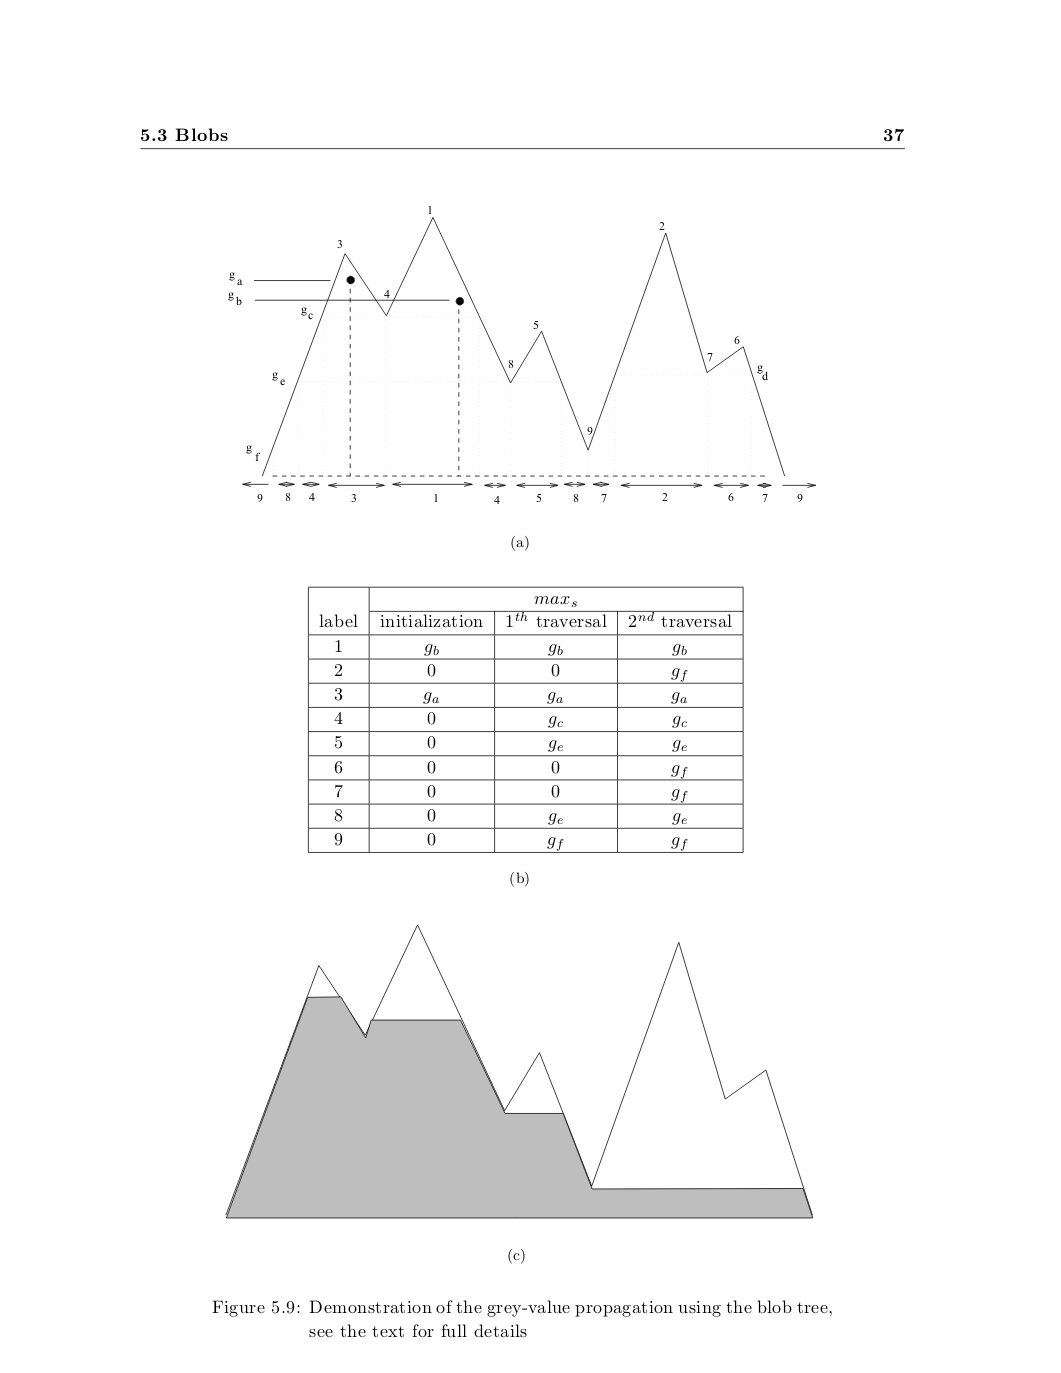Table: (306, 585, 743, 853)
figure: (225, 923, 812, 1219), (228, 206, 815, 503)
